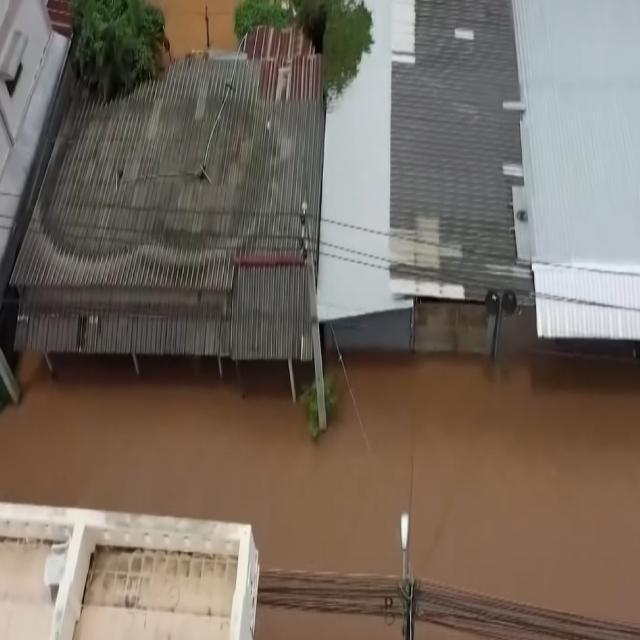flood: (0, 352, 640, 640), (150, 0, 238, 58)
house: (14, 498, 268, 640), (0, 0, 80, 262)
